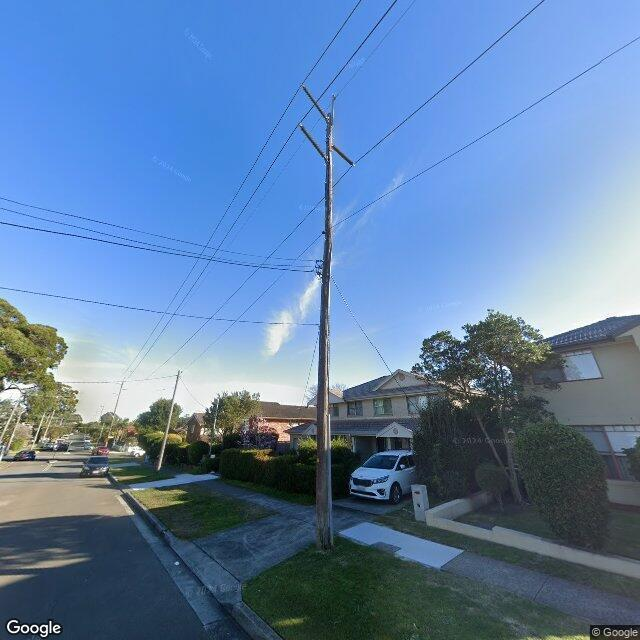HV-transmission: (299, 84, 354, 167), (113, 382, 127, 396)
timber-pole: (318, 114, 332, 550), (155, 370, 180, 473), (105, 381, 124, 447)
